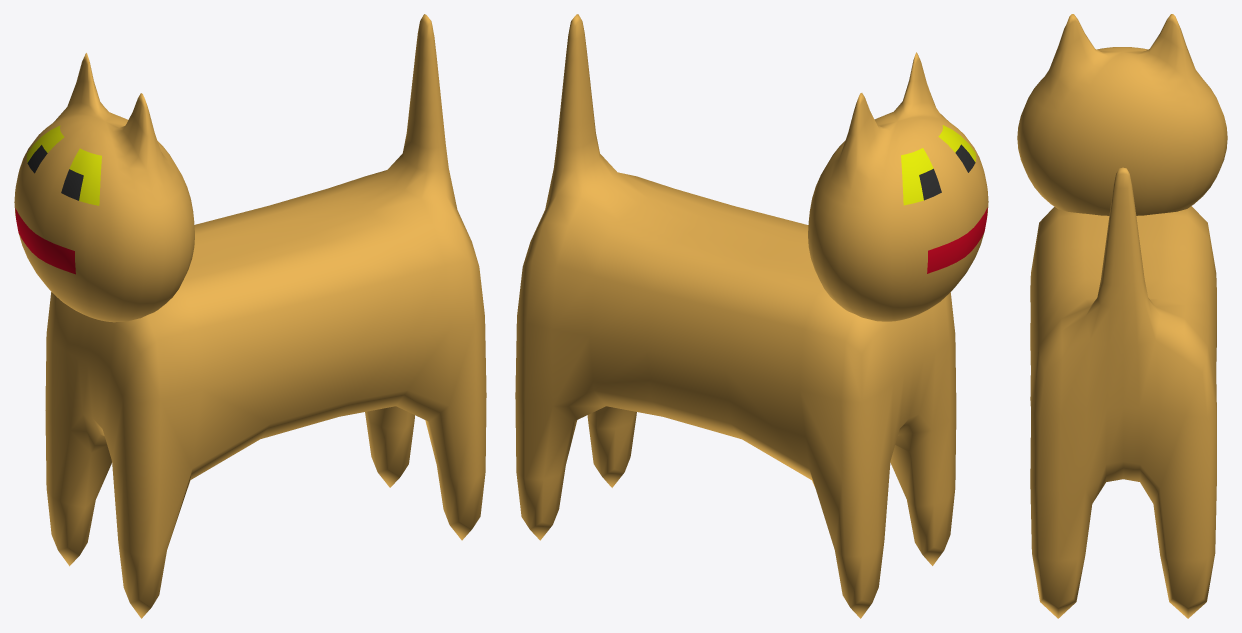
The model's file is cat.fbx.
3 renders of one model, left to right at view 1: azimuth 30°, elevation 25°; view 2: azimuth 150°, elevation 25°; view 3: azimuth 270°, elevation 25°, orthographic. The views are drawn at different scales.
Visible parts, largest first — view 1: Cube.001; view 2: Cube.001; view 3: Cube.001.
Part boxes in pixels (box(x1,y1,x2,y2)): Cube.001: box(14, 14, 486, 618); Cube.001: box(515, 14, 988, 618); Cube.001: box(1017, 14, 1227, 618).
Bounding box in the file's own units: 132 × 160 × 65.21.
